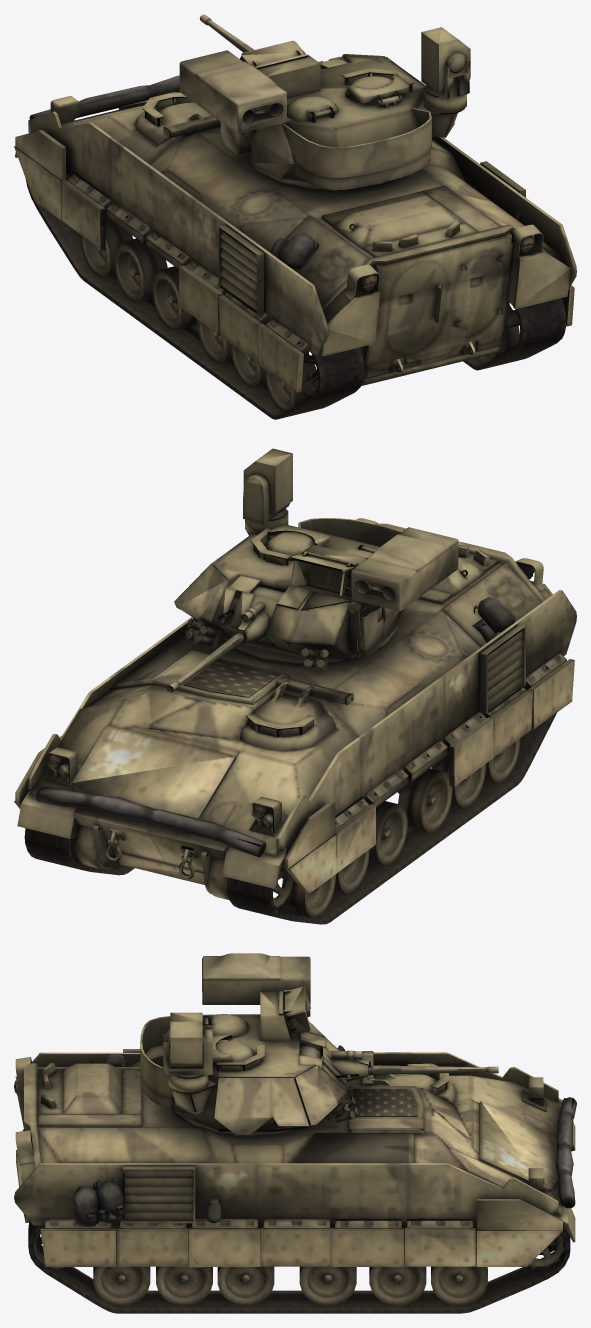
The model's file is bradley.glb.
3 views of the same model, one above another, from view 1: azimuth 30°, elevation 25°; view 2: azimuth 150°, elevation 25°; view 3: azimuth 270°, elevation 25° (orthographic). The views are drawn at different scales.
Parts seen in each view (by area): view 1: hull, turret; view 2: hull, turret, barrel; view 3: hull, turret, barrel.
Boxes of the visible parts, left/top/right/bottom form: hull: left=14, top=51, right=576, bottom=419; turret: left=179, top=27, right=470, bottom=190; hull: left=14, top=518, right=576, bottom=924; turret: left=174, top=448, right=458, bottom=669; barrel: left=167, top=629, right=246, bottom=692; hull: left=14, top=1049, right=576, bottom=1313; turret: left=140, top=953, right=368, bottom=1136; barrel: left=368, top=1061, right=498, bottom=1075.
Bounding box in the file's own units: 3.56 × 3.58 × 6.55.
1 material, 1 textured.
